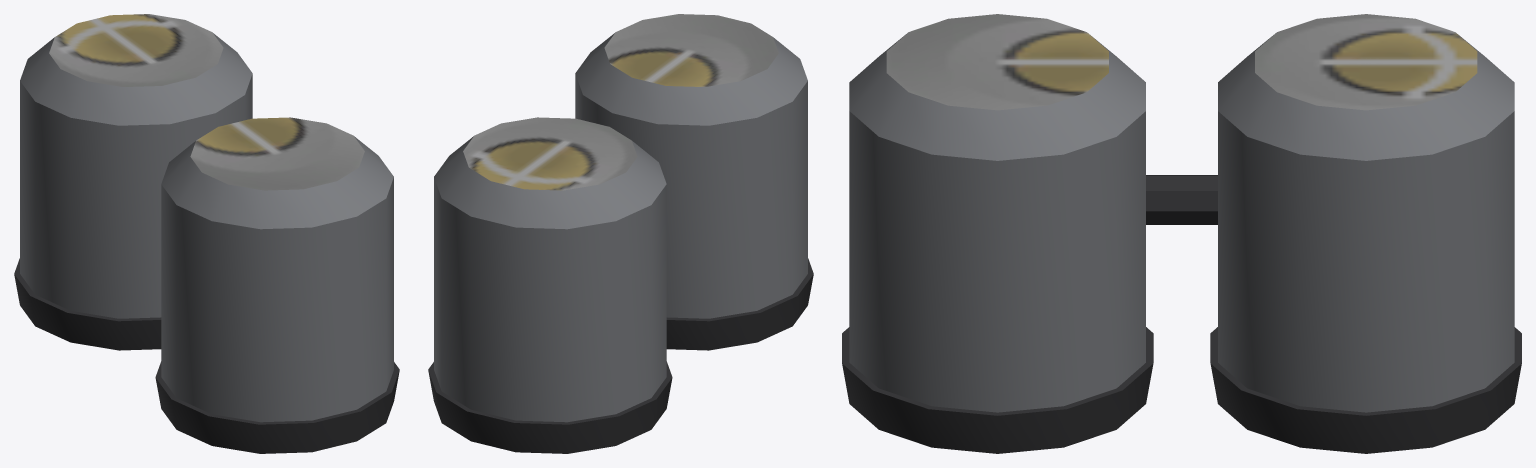
File: Building_PsychofluidPump.obj
The picture shows the model from 3 angles, left to right: view 1: azimuth 30°, elevation 25°; view 2: azimuth 150°, elevation 25°; view 3: azimuth 270°, elevation 25°; orthographic projection. The views are drawn at different scales.
Parts seen in each view (by area): view 1: Body; view 2: Body; view 3: Body.
Part boxes in pixels (left/top/right/bottom): Body: left=14, top=14, right=399, bottom=453; Body: left=428, top=14, right=813, bottom=453; Body: left=842, top=14, right=1521, bottom=453.
Bounding box in the file's own units: 0.84 × 0.95 × 1.79.
Materials: 1 (1 with a texture image).
